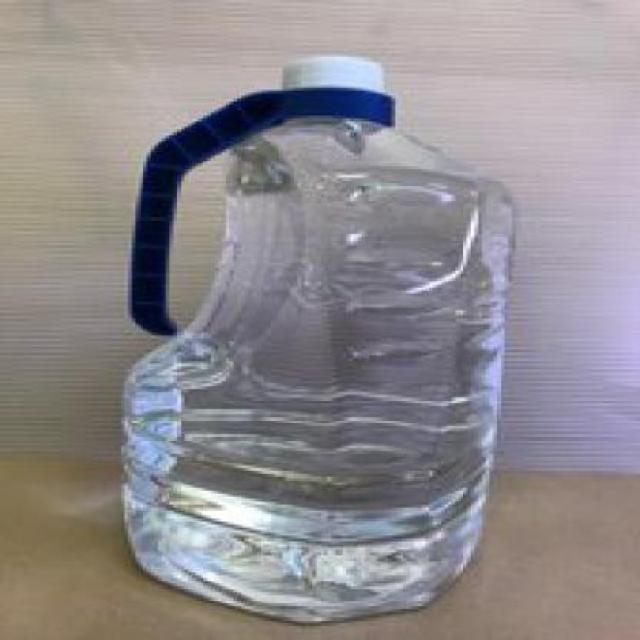bottle: (93, 34, 541, 632)
